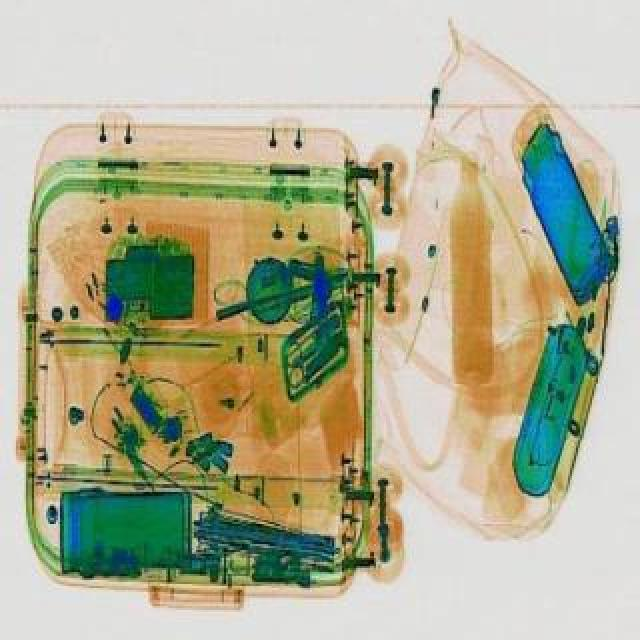pliers: (268, 322, 340, 386)
